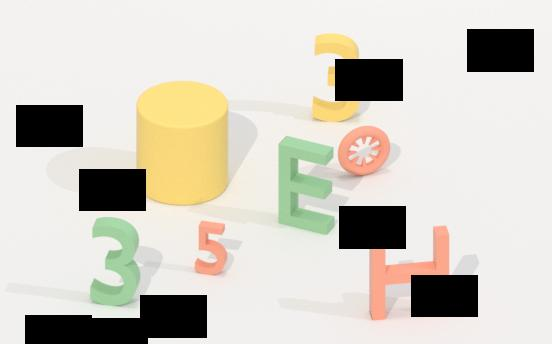3: (306, 33, 369, 125), (85, 219, 146, 307)
5: (190, 219, 236, 279)
E-hoa: (272, 137, 339, 236)
H-hoa: (366, 228, 454, 322)
tron: (338, 125, 391, 179)
tru: (133, 85, 229, 202)
